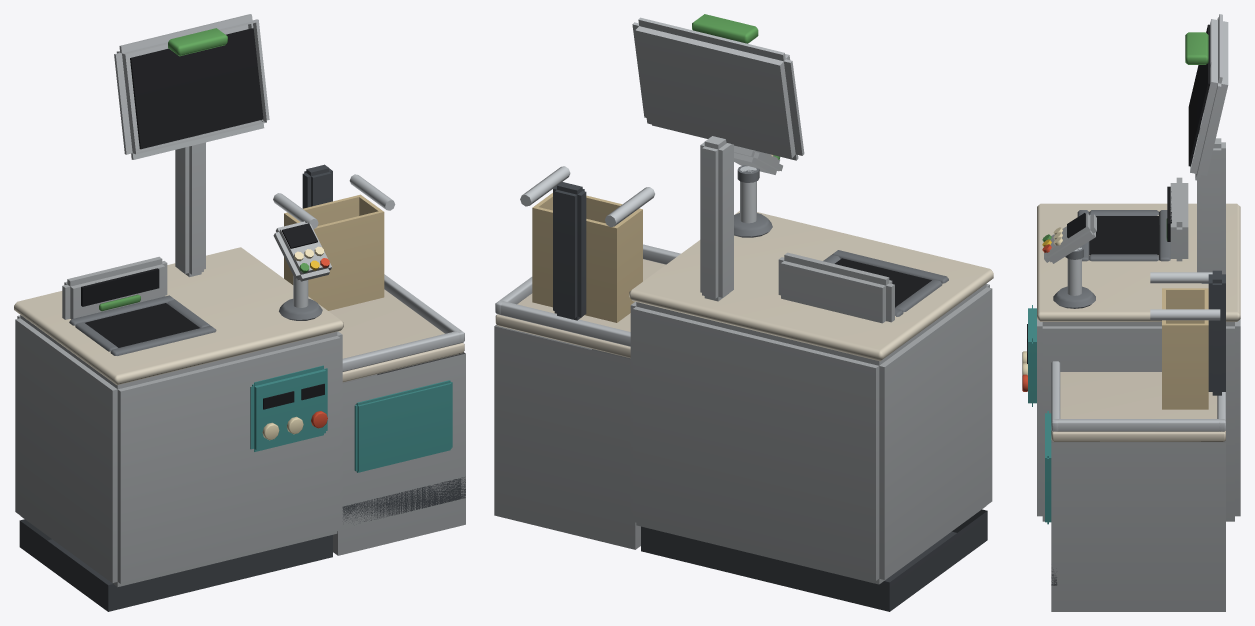
The model's file is SelfCheckout_Kiosk_01.glb.
3 renders of one model, left to right at view 1: azimuth 30°, elevation 25°; view 2: azimuth 150°, elevation 25°; view 3: azimuth 270°, elevation 25°, orthographic. The views are drawn at different scales.
Visible parts, largest first — view 1: SM_SelfCheckout_Kiosk_01; view 2: SM_SelfCheckout_Kiosk_01; view 3: SM_SelfCheckout_Kiosk_01.
Boxes of the visible parts, bbox=[...] form: SM_SelfCheckout_Kiosk_01: bbox=[14, 14, 465, 611]; SM_SelfCheckout_Kiosk_01: bbox=[494, 14, 993, 611]; SM_SelfCheckout_Kiosk_01: bbox=[1022, 14, 1240, 611].
Size of the model in its own units: 1.4 by 1.8 by 0.75.
1 material, 1 textured.
